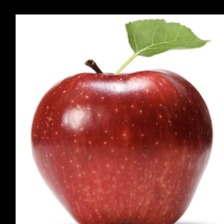apple: (37, 29, 224, 209)
